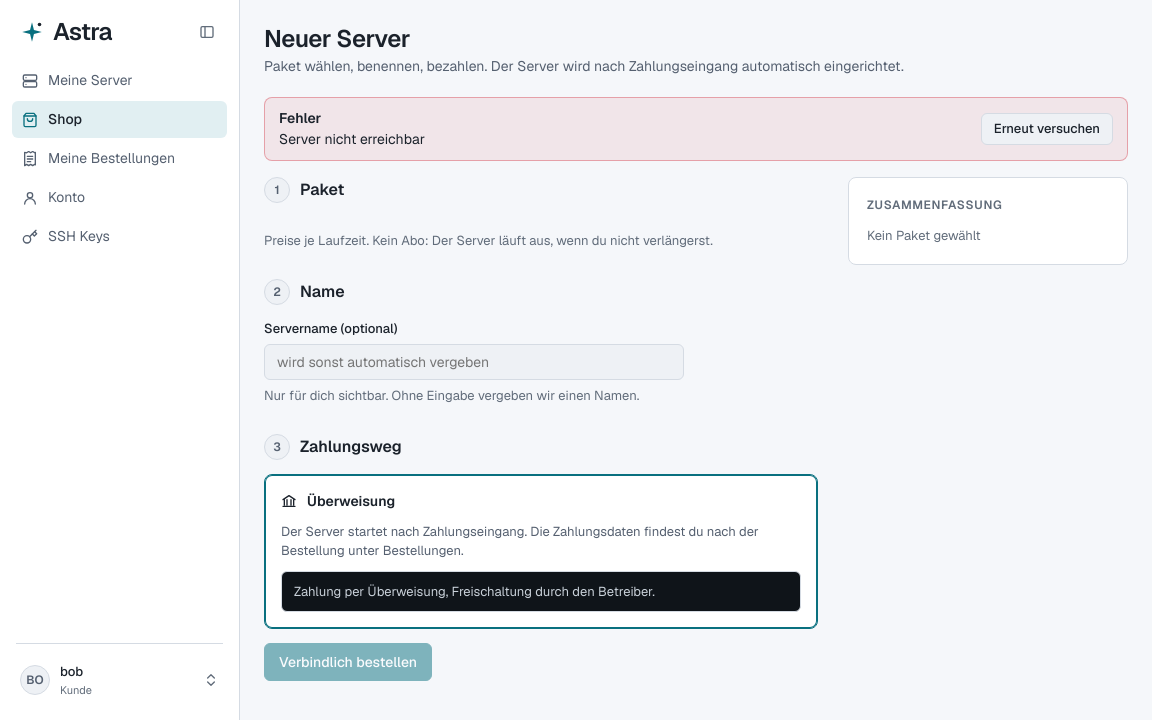
ShopPage › zeigt Leer- und Fehlerzustand
Check: the text "Server nicht erreichbar" is shown, box [279,130,425,148]
What coordinates should you click on to do the following:
click the button "Erneut versuchen"
I would click on:
 (1047, 129)
Its box is [981,113,1113,145].
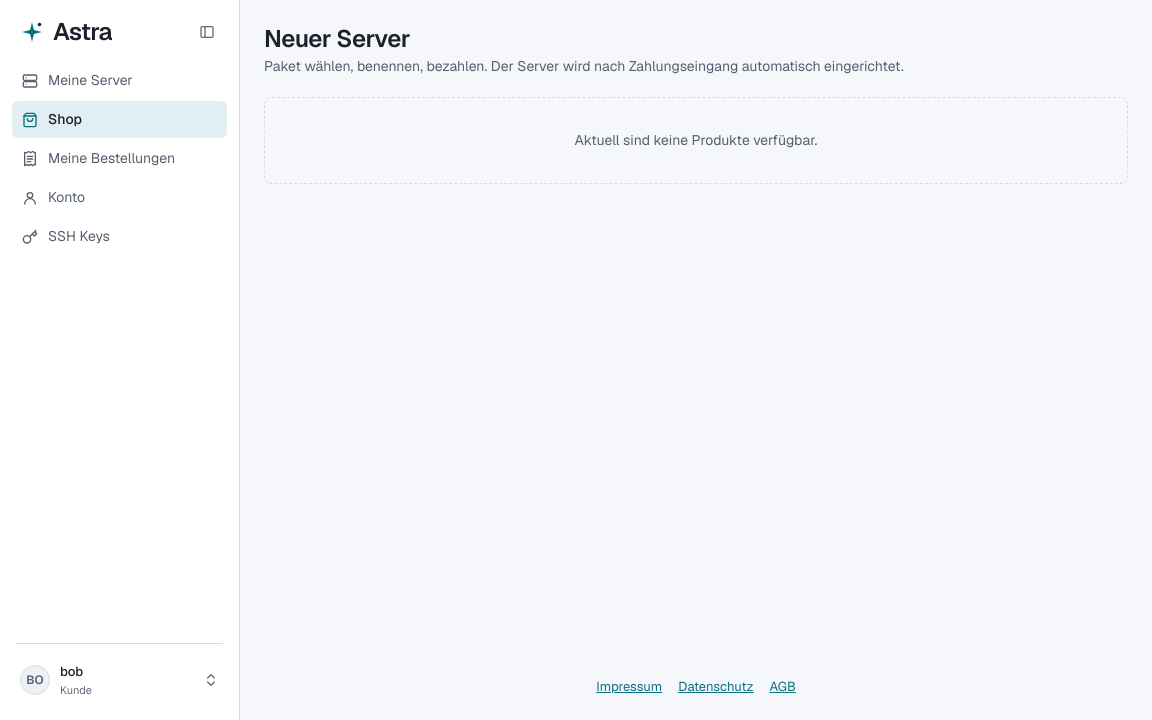
Check: the text "Aktuell sind keine Produkte verfügbar." is shown, box [264,97,1128,184]
